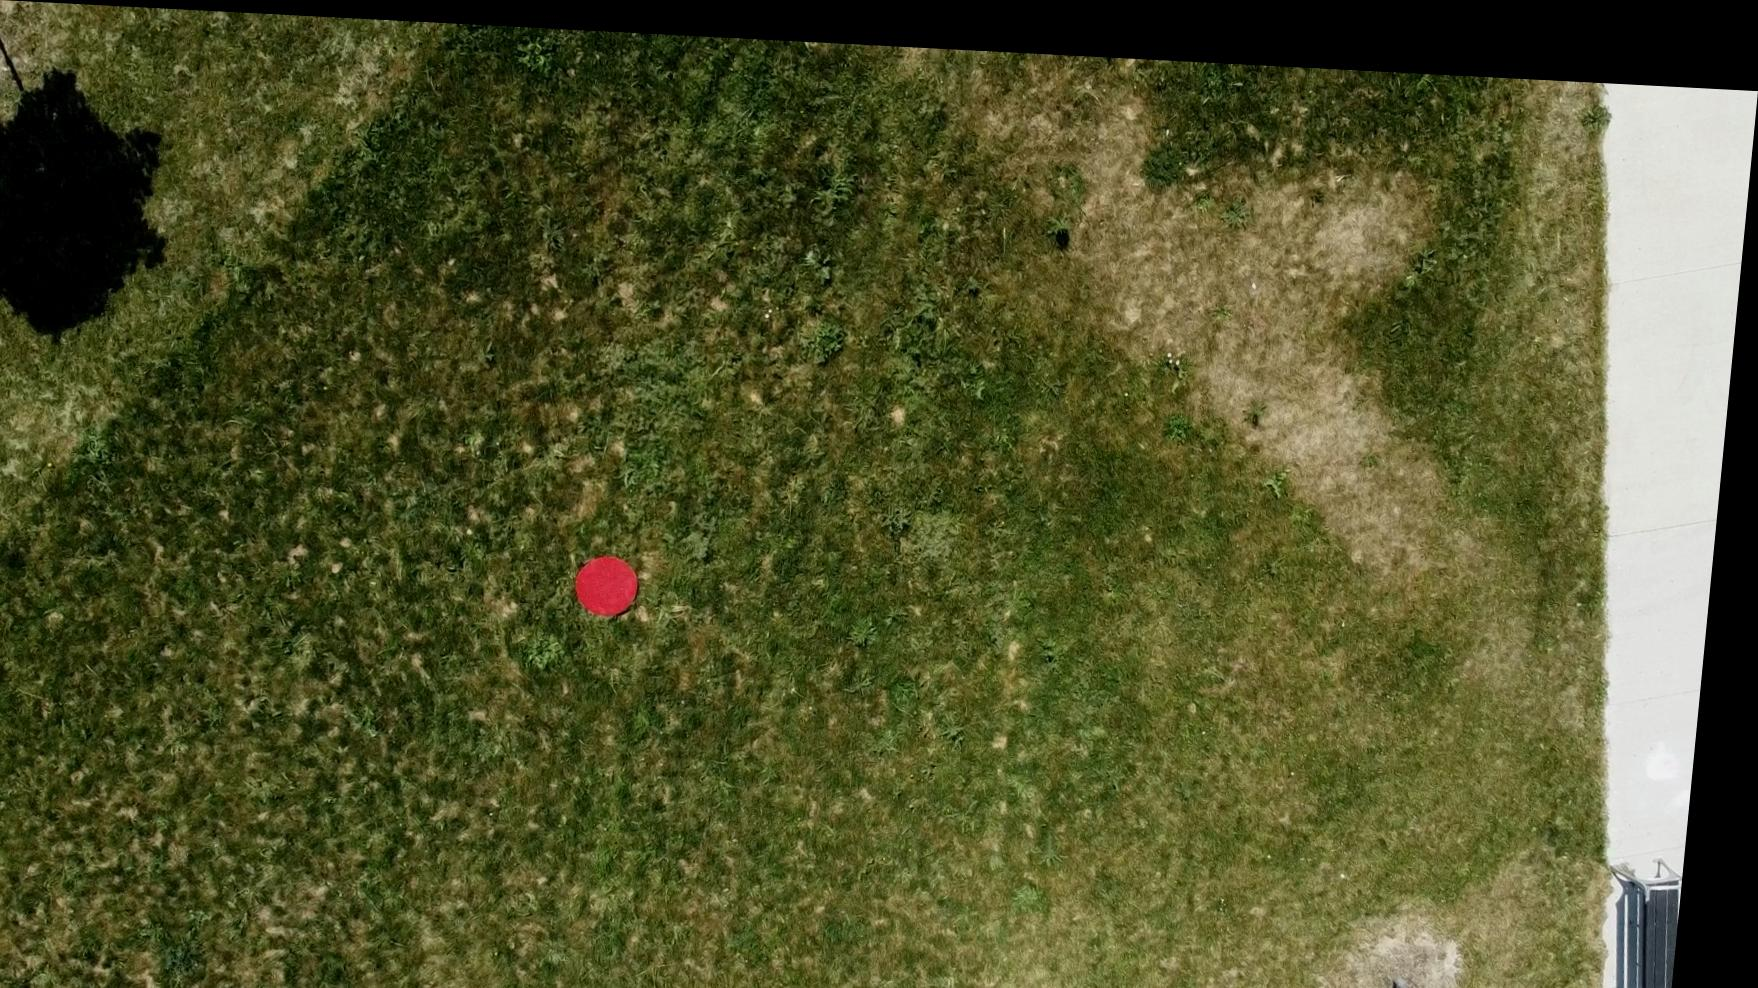Red: (582, 546, 654, 612)
